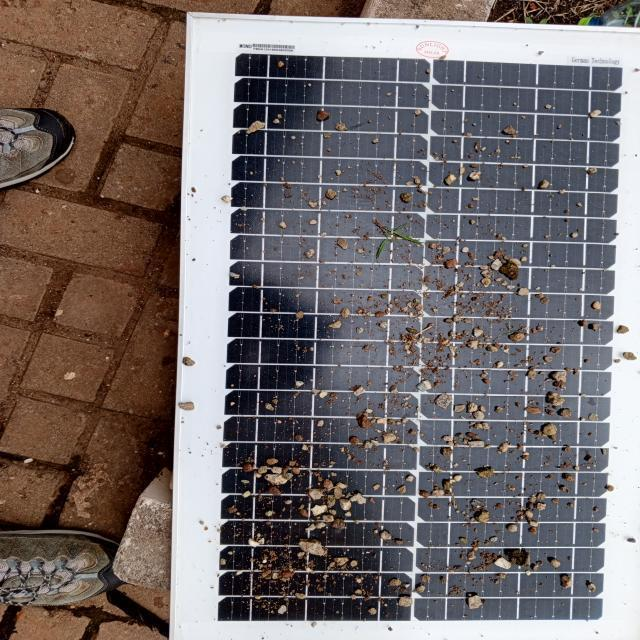Surface Contaminant: (203, 42, 624, 625)
